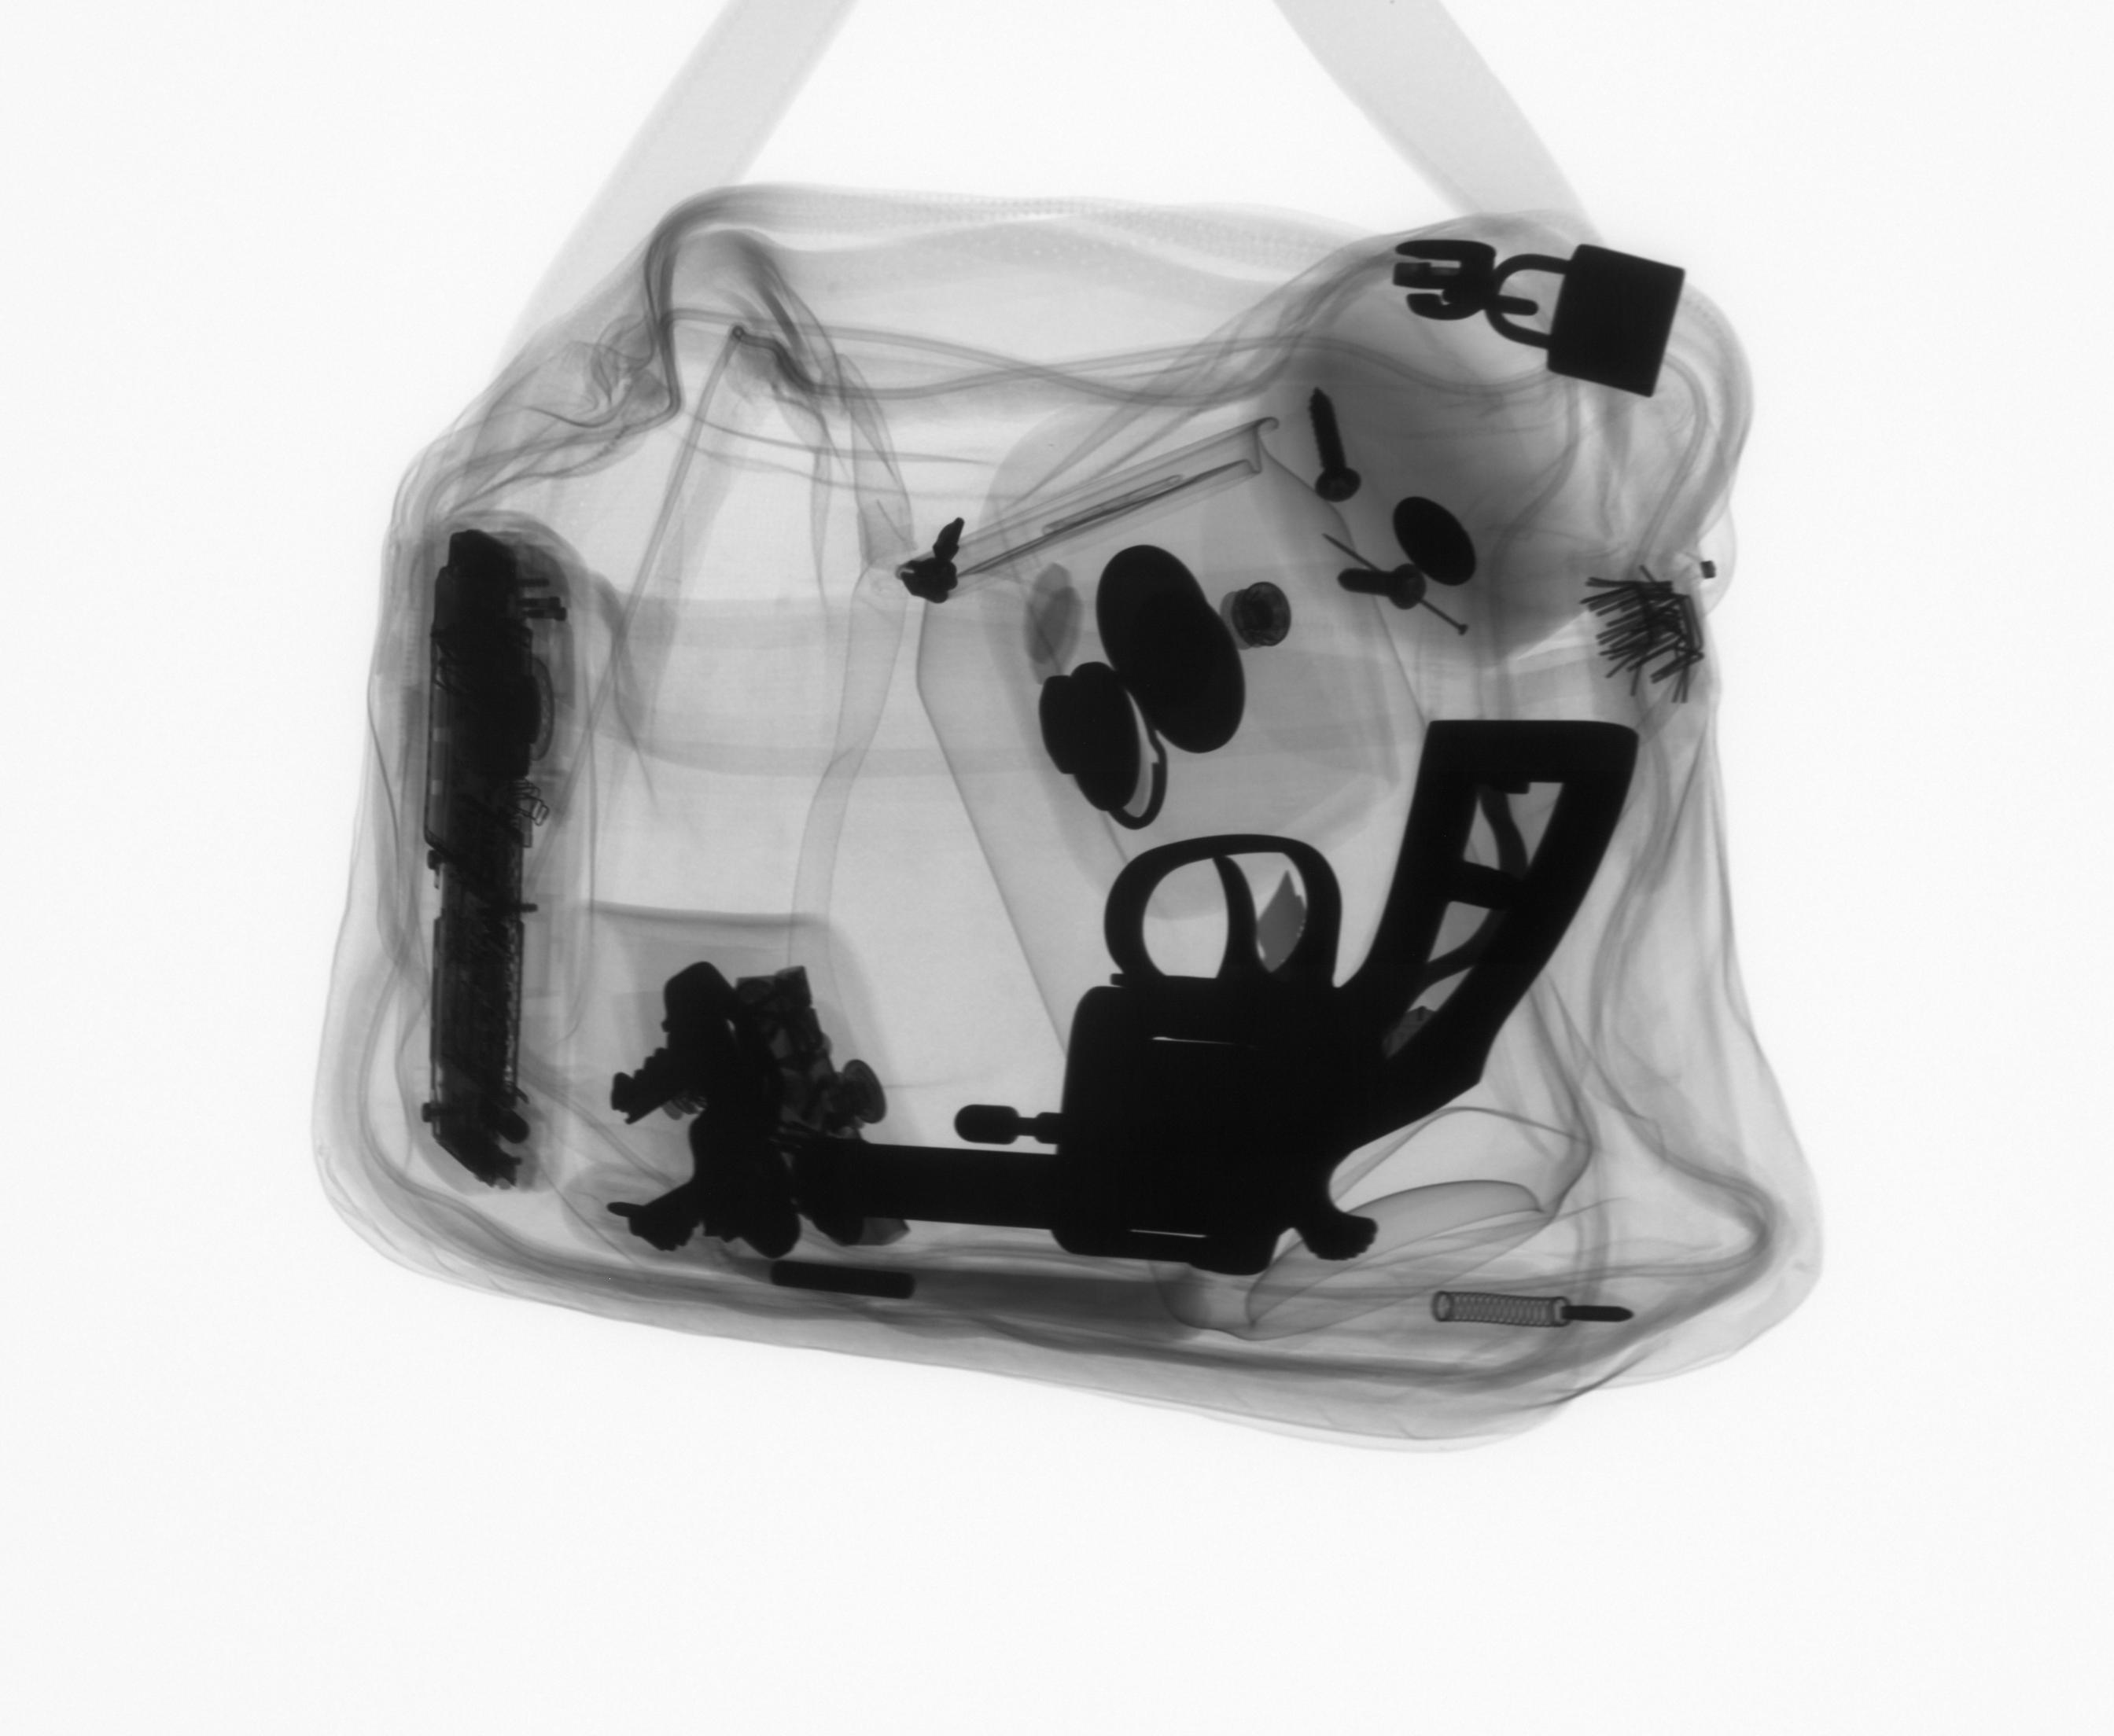Handgun: (786, 711, 1652, 1285)
